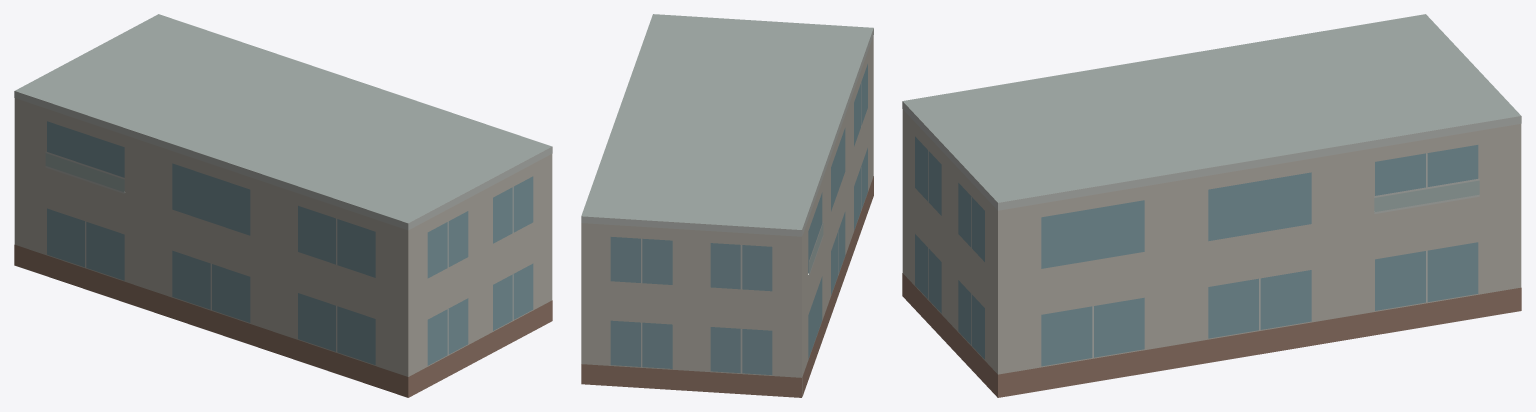
File: survey-upis-32928103.glb
The picture shows the model from 3 angles, left to right: view 1: azimuth 30°, elevation 25°; view 2: azimuth 150°, elevation 25°; view 3: azimuth 270°, elevation 25°; orthographic projection. The views are drawn at different scales.
Parts seen in each view (by area): view 1: survey-upis-32928103.tmp; view 2: survey-upis-32928103.tmp; view 3: survey-upis-32928103.tmp.
Boxes of the visible parts, x1,y1,x2,y2 form: survey-upis-32928103.tmp: (14, 14, 552, 397); survey-upis-32928103.tmp: (581, 14, 873, 397); survey-upis-32928103.tmp: (902, 14, 1521, 397).
Size of the model in its own units: 12.69 by 6.1 by 17.57.
